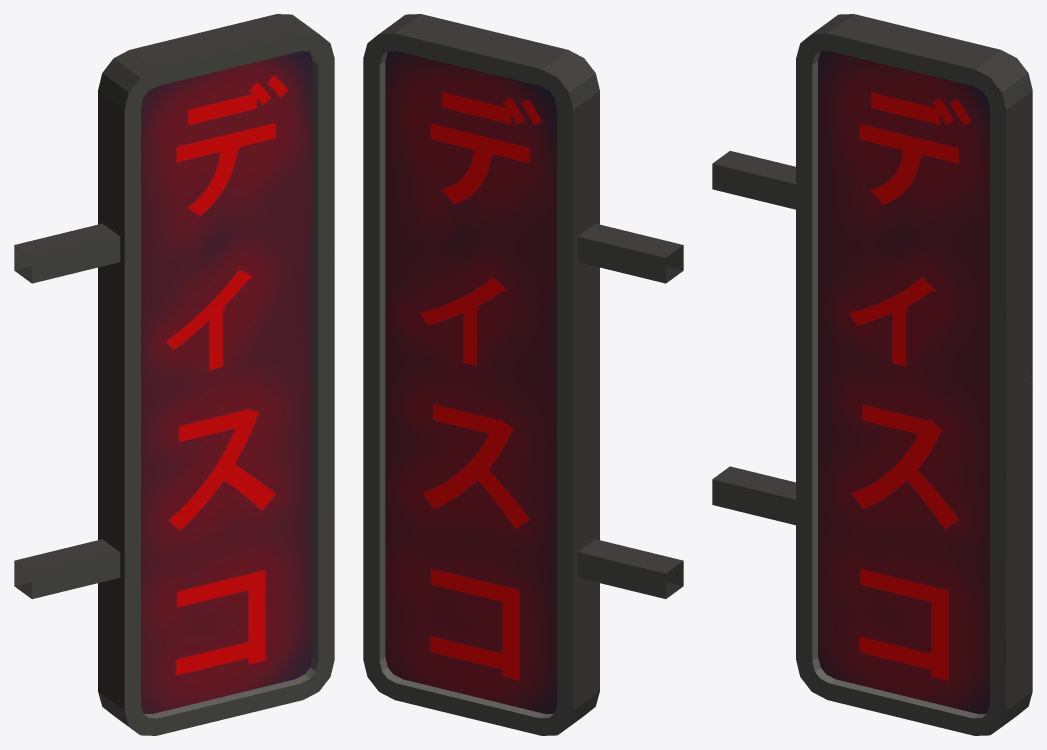
The model's file is prop.sign2.fbx.
3 renders of one model, left to right at view 1: azimuth 30°, elevation 25°; view 2: azimuth 150°, elevation 25°; view 3: azimuth 330°, elevation 25°, orthographic.
Visible parts, largest first — view 1: sign; view 2: sign; view 3: sign.
Boxes of the visible parts, x1,y1,x2,y2 form: sign: [14, 14, 334, 735]; sign: [363, 14, 683, 735]; sign: [712, 14, 1032, 735].
Bounding box in the file's own units: 284 × 606 × 43.83.
